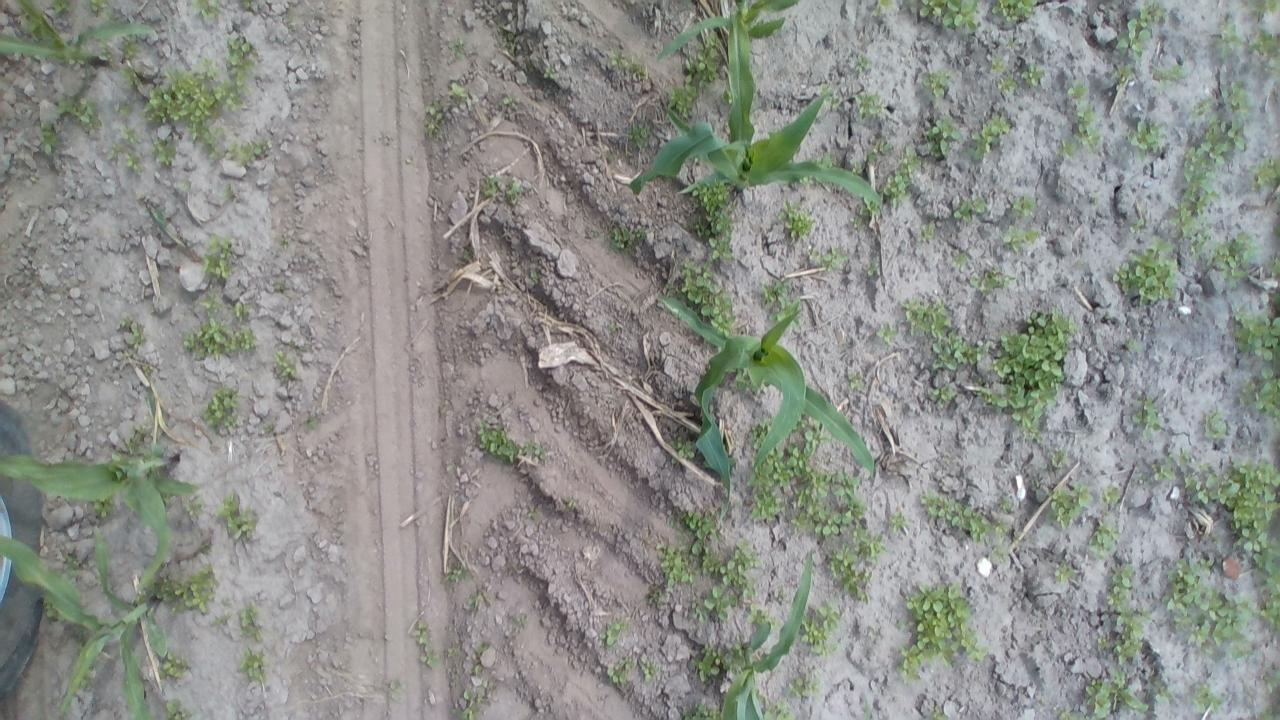Maize: (657, 289, 880, 534), (630, 4, 882, 213), (0, 527, 171, 720), (2, 443, 210, 594), (722, 548, 818, 719), (0, 0, 162, 62), (658, 0, 799, 62), (134, 372, 170, 430), (141, 195, 176, 234)
Weeds: (748, 422, 868, 534), (980, 308, 1074, 435), (898, 583, 986, 679), (1166, 554, 1251, 652), (1179, 120, 1247, 220), (141, 63, 225, 137), (1218, 458, 1276, 552), (674, 261, 736, 336), (1113, 240, 1180, 306), (694, 539, 758, 603), (474, 422, 550, 466), (1088, 666, 1152, 718), (1098, 596, 1151, 658), (918, 489, 984, 538), (153, 566, 216, 614), (181, 320, 256, 358), (1167, 197, 1215, 252), (828, 546, 873, 602), (1232, 305, 1277, 361), (1254, 548, 1280, 636), (906, 0, 980, 30), (928, 333, 988, 370), (1048, 481, 1092, 528), (694, 185, 734, 236), (1213, 232, 1256, 278), (904, 298, 952, 336), (1244, 367, 1278, 420), (970, 114, 1009, 160), (218, 494, 256, 538), (1128, 120, 1161, 170), (202, 388, 239, 432), (799, 612, 838, 653), (684, 509, 720, 553), (1114, 19, 1157, 54), (56, 97, 100, 131), (658, 546, 696, 585), (788, 662, 824, 702), (778, 203, 814, 242), (202, 237, 235, 279), (1086, 518, 1120, 558), (690, 31, 720, 76), (610, 218, 646, 254), (970, 264, 1016, 292), (883, 160, 916, 198), (702, 582, 735, 620), (670, 432, 700, 472), (850, 521, 886, 554), (218, 76, 249, 114), (1134, 456, 1176, 484), (845, 197, 884, 227), (122, 426, 162, 455), (666, 80, 700, 114), (1134, 395, 1162, 436), (1074, 105, 1102, 146), (721, 635, 749, 676), (227, 34, 259, 69), (202, 123, 228, 166), (1202, 408, 1234, 442), (992, 0, 1039, 23), (926, 116, 956, 152), (239, 602, 265, 642), (1150, 672, 1177, 710), (624, 120, 656, 152), (1184, 472, 1214, 506), (758, 696, 800, 720), (452, 688, 483, 720), (864, 134, 896, 165), (228, 138, 266, 164), (695, 647, 722, 683), (1111, 564, 1136, 602), (1174, 442, 1200, 478), (953, 193, 986, 221), (920, 68, 953, 96), (415, 620, 435, 666), (854, 88, 884, 118), (913, 219, 941, 251), (1242, 0, 1279, 24), (1217, 19, 1241, 56), (1250, 156, 1276, 190), (504, 170, 529, 205), (1194, 686, 1227, 712), (496, 22, 521, 56), (464, 585, 493, 614), (150, 136, 178, 166), (1226, 80, 1250, 114), (160, 649, 188, 678), (242, 648, 266, 681), (708, 232, 734, 262), (684, 699, 720, 720), (874, 320, 902, 347), (942, 251, 974, 274), (1251, 31, 1277, 59), (600, 622, 628, 648), (664, 502, 686, 534), (1050, 556, 1077, 582), (1254, 659, 1280, 686), (164, 695, 192, 720), (760, 280, 789, 304), (746, 604, 777, 626), (1113, 57, 1135, 88), (118, 318, 144, 344), (39, 124, 60, 156), (1022, 58, 1046, 86), (930, 384, 959, 407), (182, 496, 208, 521), (992, 489, 1018, 514), (272, 350, 294, 379), (444, 559, 468, 585), (1124, 214, 1150, 238), (870, 0, 901, 20), (640, 654, 660, 684), (1065, 78, 1090, 102), (853, 53, 879, 76), (64, 552, 86, 579), (200, 288, 222, 314), (1098, 485, 1124, 507), (1154, 64, 1182, 84), (1140, 0, 1163, 24), (558, 496, 587, 515), (386, 678, 408, 703), (849, 369, 871, 394), (886, 506, 908, 531), (984, 54, 1009, 76), (194, 57, 220, 78), (1121, 333, 1147, 354), (1050, 704, 1084, 720), (582, 218, 605, 241), (820, 249, 844, 271), (1002, 226, 1024, 250), (608, 660, 630, 684), (45, 605, 69, 627), (1026, 224, 1046, 249), (1012, 195, 1038, 214), (930, 701, 956, 720), (425, 102, 443, 129), (865, 260, 887, 282), (985, 544, 1009, 564), (208, 610, 232, 630), (500, 88, 520, 112), (988, 514, 1012, 534), (193, 0, 218, 19), (122, 39, 142, 62), (105, 141, 124, 165), (506, 554, 525, 578), (525, 498, 543, 523), (1250, 705, 1280, 720), (649, 584, 669, 606), (114, 99, 136, 119), (230, 300, 253, 318), (1191, 98, 1211, 118), (1049, 448, 1070, 467), (510, 612, 529, 633), (541, 57, 560, 78), (449, 34, 467, 56), (122, 66, 140, 88), (994, 76, 1016, 94), (1060, 139, 1080, 158), (178, 172, 196, 193), (88, 0, 110, 17), (48, 0, 76, 13), (119, 123, 138, 142), (270, 278, 288, 298), (303, 410, 321, 430), (456, 245, 474, 265), (125, 153, 142, 173), (473, 640, 494, 656), (1006, 32, 1022, 53), (449, 83, 468, 99), (92, 500, 111, 516), (98, 44, 114, 63), (610, 51, 626, 69), (444, 640, 460, 658), (816, 149, 832, 167), (261, 416, 276, 435), (222, 182, 236, 202), (688, 602, 704, 618), (484, 180, 498, 198), (607, 320, 621, 338), (850, 161, 866, 175), (828, 95, 842, 111), (280, 231, 290, 252), (199, 543, 215, 556), (472, 662, 482, 679), (819, 80, 832, 93), (805, 248, 818, 261), (530, 268, 542, 282), (162, 494, 174, 506), (220, 598, 232, 606)
